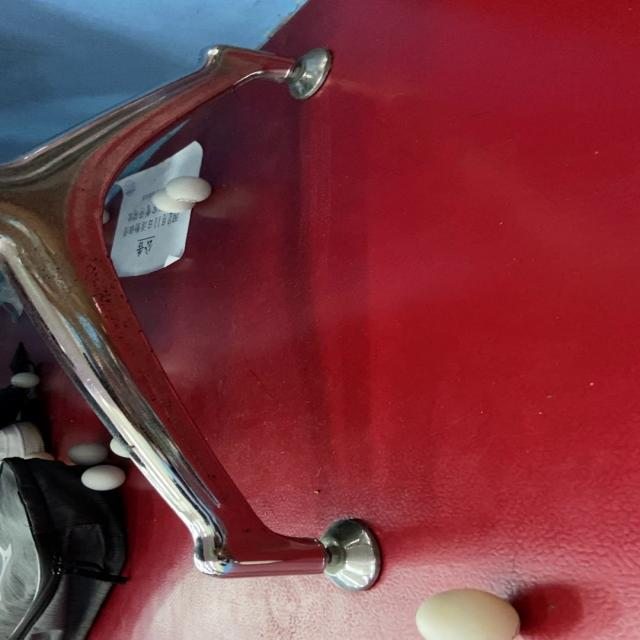ping-pong-ball: (412, 586, 524, 640), (160, 174, 215, 208), (76, 462, 132, 492), (4, 368, 46, 392)
